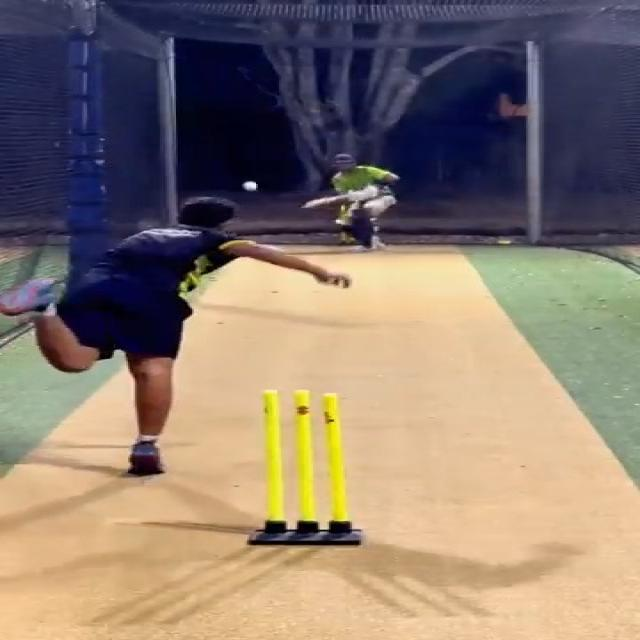ball: (241, 180, 259, 191)
stump: (245, 388, 366, 547)
